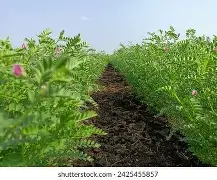crops: (107, 27, 215, 163), (0, 31, 105, 164), (71, 50, 109, 86), (157, 94, 192, 126), (118, 41, 148, 75), (190, 84, 217, 120), (144, 25, 181, 49), (54, 29, 87, 54), (69, 136, 101, 153), (200, 49, 216, 80), (3, 99, 25, 116), (36, 27, 55, 46), (79, 96, 98, 110), (22, 36, 37, 51), (0, 35, 12, 51), (185, 27, 195, 38), (118, 42, 125, 47)
